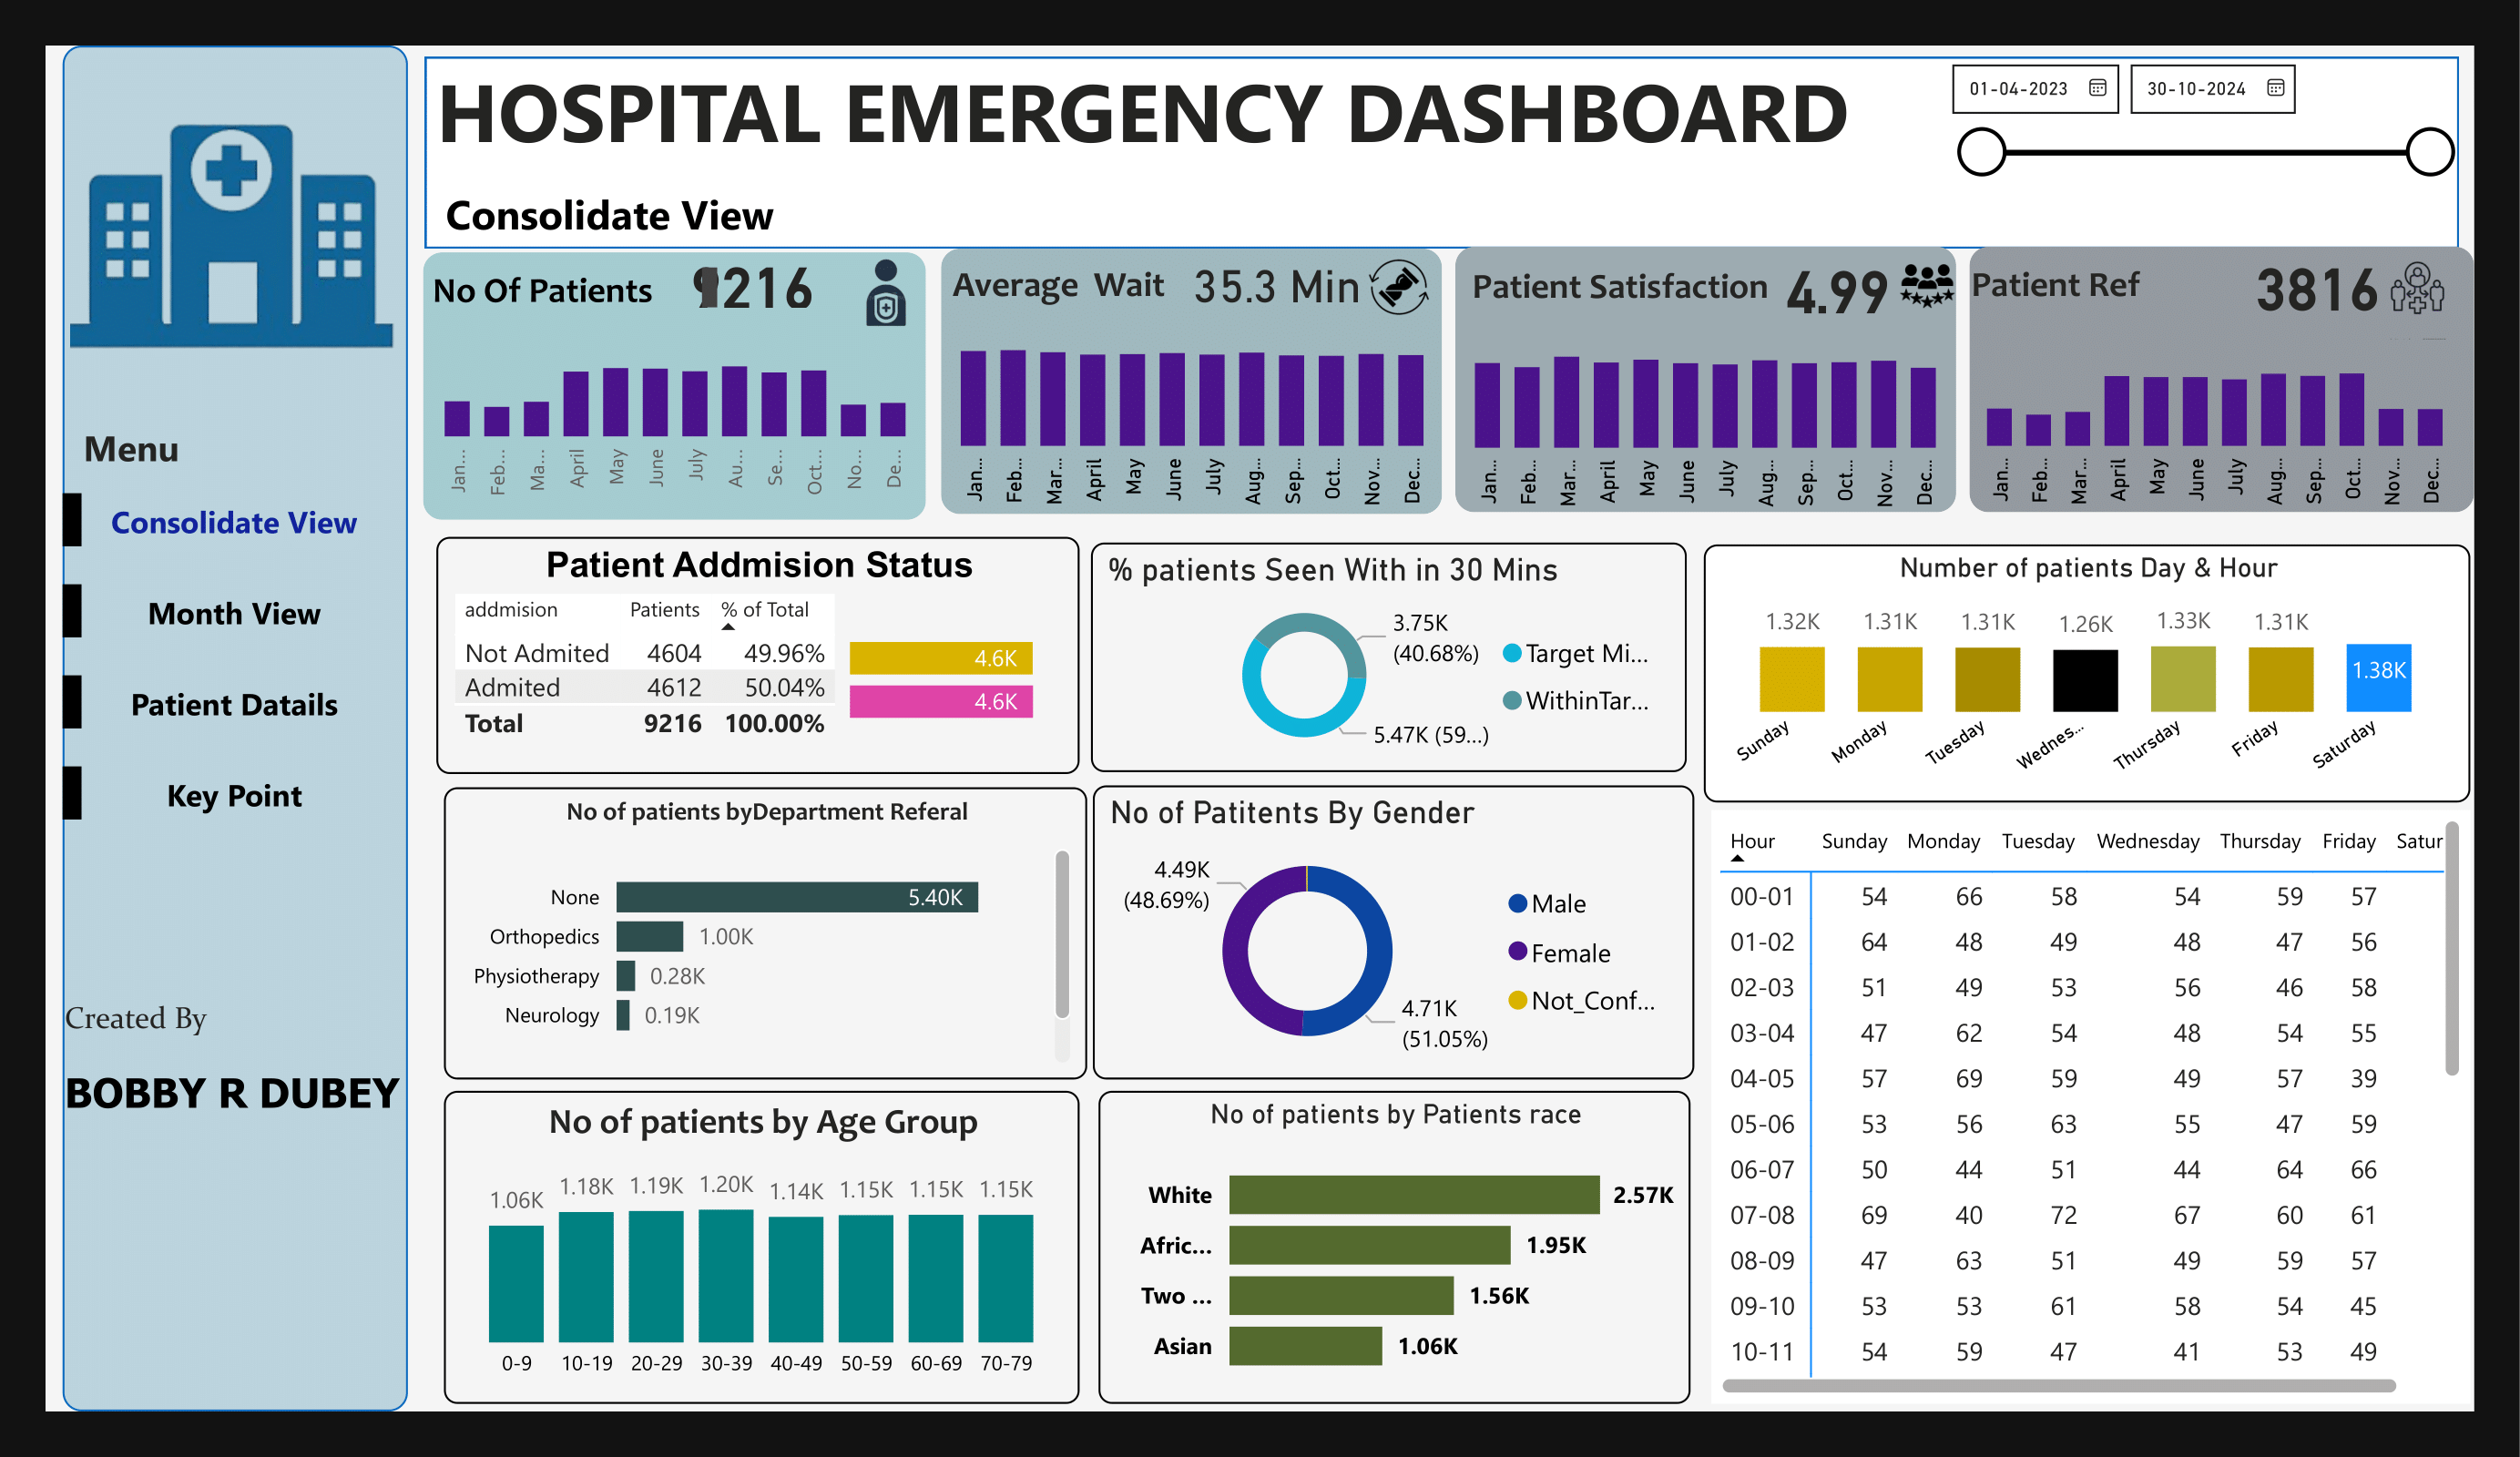

What the dashboard file says about the page in this screenshot:
{"tool":"powerbi","page":{"name":"Consolidate View","canvas":[1280,720],"ordinal":0},"visuals":[{"type":"card","fields":{"Values":["Measure.Patient Referd"]},"box":[1155.7,107,85.1,39],"z":0,"group":"g3"},{"type":"card","fields":{"Values":["Measure.Patient Satisfaction"]},"box":[883.1,108.2,120.9,39.5],"z":0,"group":"g1"},{"type":"shape","box":[198.8,109.3,265.1,140.7],"z":0},{"type":"card","fields":{"Values":["Measure.Avg Wait Time"]},"box":[589.3,110.1,119.8,32.6],"z":0,"group":"g4"},{"type":"shape","box":[200,5.8,1072.1,101.2],"z":1000},{"type":"card","fields":{"Values":["Measure.Number of patients"]},"box":[327.2,109,90.7,33.7],"z":1000,"group":"g6"},{"type":"textbox","box":[1010.5,109.1,138.4,35.6],"z":1000,"group":"g3"},{"type":"textbox","box":[473.3,109.3,145.3,36],"z":1000,"group":"g4"},{"type":"textbox","box":[746.5,110.4,174.4,35.8],"z":1000,"group":"g1"},{"type":"textbox","box":[201,0,791,69],"z":2000},{"type":"card","fields":{"Values":["Measure.Measure"]},"box":[517.1,100.6,259.3,115.1],"z":3000},{"type":"textbox","box":[199.6,111.6,159.4,32.9],"z":3000,"group":"g6"},{"type":"shape","box":[471.6,106.8,264.5,140.1],"z":4000},{"type":"shape","box":[742.9,105.6,264.5,140.1],"z":5000},{"type":"columnChart","fields":{"Category":["Date_Table.Month_Name"],"Y":["Measure.Number of patients"]},"box":[197.2,137.9,269.8,112],"z":5000,"group":"g6"},{"type":"shape","box":[1014,105.6,265.7,140.1],"z":6000},{"type":"group","id":"g1","title":"Group 2","box":[746.5,108.2,257.5,39.5],"z":7000},{"type":"group","id":"g2","title":"Group 1","box":[473.3,109.3,235.7,36],"z":8000},{"type":"tableEx","title":"Patient Addmision Status","fields":{"Values":["ER_Data.addmision status","Measure.Number of patients","Divide(Measure.Number of patients, ScopedEval(Measure.Number of patients, []))"]},"box":[205.8,259.3,339.5,124.4],"z":9000},{"type":"clusteredColumnChart","title":"No of patients by Age Group","fields":{"Category":["ER_Data.Age_Group"],"Y":["Measure.Number of patients"]},"box":[210.5,551.2,334.9,165.1],"z":10000},{"type":"clusteredBarChart","title":"No of patients byDepartment Referal","fields":{"Y":["Measure.Number of patients"],"Category":["ER_Data.Department_Referral"]},"box":[210.5,390.7,338.4,154.7],"z":11000},{"type":"group","id":"g3","title":"Group 2","box":[1010.5,107,230.3,39],"z":11004,"group":"g5"},{"type":"group","id":"g4","title":"Group 2","box":[473.3,109.3,235.7,36],"z":11004,"group":"g2"},{"type":"image","box":[22.1,0,168.6,194.2],"z":12000},{"type":"donutChart","title":"% patients Seen  With in 30 Mins","fields":{"Category":["ER_Data.Patient waiting"],"Y":["Measure.Number of patients"]},"box":[551.2,261.6,314,120.9],"z":13000},{"type":"donutChart","title":"No of Patitents By Gender","fields":{"Y":["Measure.Number of patients"],"Category":["ER_Data.Patient_Gender"]},"box":[552.3,389.5,316.3,155.8],"z":14000},{"type":"barChart","title":"No of patients by  Patients race","fields":{"Y":["Measure.Number of patients"],"Category":["ER_Data.Patient_Race"]},"box":[554.7,551.2,312.8,165.1],"z":15000},{"type":"clusteredColumnChart","title":"Number of patients Day & Hour","fields":{"Y":["Measure.Number of patients"],"Category":["Date_Table.Weekd"]},"box":[874.4,262.8,403.5,136],"z":16000},{"type":"pivotTable","fields":{"Rows":["ER_Data.HourInterval"],"Values":["Measure.Number of patients"],"Columns":["Date_Table.Weekd"]},"box":[877.9,403.5,400,312.8],"z":17000},{"type":"barChart","fields":{"Category":["ER_Data.addmision status"],"Y":["Measure.Number of patients"]},"box":[418.6,289.5,129.1,82.6],"z":18000},{"type":"shape","box":[9.3,0,181.4,719.8],"z":19000},{"type":"image","box":[8.1,3.5,182.6,194.2],"z":20000},{"type":"group","id":"g5","title":"Group 1","box":[1010.5,107,230.2,39],"z":21000},{"type":"columnChart","fields":{"Category":["Date_Table.Month_Name"],"Y":["Avg(ER_Data.Patient_Waittime)"]},"box":[468.6,141.9,270.9,112.8],"z":22000},{"type":"columnChart","fields":{"Category":["Date_Table.Month_Name"],"Y":["Avg(ER_Data.Patient_Satisfaction_Score)"]},"box":[739.5,144.2,270.9,111.6],"z":23000},{"type":"columnChart","fields":{"Category":["Date_Table.Month_Name"],"Y":["Measure.Patient Referd"]},"box":[1010.5,141.9,266.3,112.8],"z":24000},{"type":"slicer","fields":{"Values":["Date_Table.Date"]},"box":[991.9,0,286,97.7],"z":25000},{"type":"textbox","box":[15.1,194.2,84.9,41.9],"z":26000},{"type":"pageNavigator","box":[9.3,236,181.4,172.1],"z":27000},{"type":"group","id":"g6","title":"Group 3","box":[197.2,109,269.8,140.9],"z":28000},{"type":"textbox","box":[206,69,232,43],"z":29000},{"type":"textbox","box":[4.7,497.7,190.7,140.7],"z":30000},{"type":"image","box":[407,97.7,70.9,68.6],"z":31000},{"type":"image","box":[682.6,96.5,60.5,60.5],"z":32000},{"type":"image","box":[1219.8,97.7,60.5,64],"z":33000},{"type":"image","box":[951.2,98.8,81.4,55.8],"z":34000}]}

Visuals, with their boxes on the page's 1280x720 design canvas (x1, y1, x2, y2). These are canvas units, not pixel positions in the 2520x1457 screenshot, which may show the page scaled, cropped or inside an application window:
card - Measure.Patient Referd: bbox(1156, 107, 1241, 146)
card - Measure.Patient Satisfaction: bbox(883, 108, 1004, 148)
shape: bbox(199, 109, 464, 250)
card - Measure.Avg Wait Time: bbox(589, 110, 709, 143)
shape: bbox(200, 6, 1272, 107)
card - Measure.Number of patients: bbox(327, 109, 418, 143)
textbox: bbox(1010, 109, 1149, 145)
textbox: bbox(473, 109, 619, 145)
textbox: bbox(746, 110, 921, 146)
textbox: bbox(201, 0, 992, 69)
card - Measure.Measure: bbox(517, 101, 776, 216)
textbox: bbox(200, 112, 359, 144)
shape: bbox(472, 107, 736, 247)
shape: bbox(743, 106, 1007, 246)
columnChart - Date_Table.Month_Name x Measure.Number of patients: bbox(197, 138, 467, 250)
shape: bbox(1014, 106, 1280, 246)
"Group 2" group: bbox(746, 108, 1004, 148)
"Group 1" group: bbox(473, 109, 709, 145)
"Patient Addmision Status" tableEx: bbox(206, 259, 545, 384)
"No of patients by Age Group" clusteredColumnChart: bbox(210, 551, 545, 716)
"No of patients byDepartment Referal" clusteredBarChart: bbox(210, 391, 549, 545)
"Group 2" group: bbox(1010, 107, 1241, 146)
"Group 2" group: bbox(473, 109, 709, 145)
image: bbox(22, 0, 191, 194)
"% patients Seen  With in 30 Mins" donutChart: bbox(551, 262, 865, 382)
"No of Patitents By Gender" donutChart: bbox(552, 390, 869, 545)
"No of patients by  Patients race" barChart: bbox(555, 551, 868, 716)
"Number of patients Day & Hour" clusteredColumnChart: bbox(874, 263, 1278, 399)
pivotTable - ER_Data.HourInterval x Measure.Number of patients: bbox(878, 404, 1278, 716)
barChart - ER_Data.addmision status x Measure.Number of patients: bbox(419, 290, 548, 372)
shape: bbox(9, 0, 191, 720)
image: bbox(8, 4, 191, 198)
"Group 1" group: bbox(1010, 107, 1241, 146)
columnChart - Date_Table.Month_Name x Avg(ER_Data.Patient_Waittime): bbox(469, 142, 740, 255)
columnChart - Date_Table.Month_Name x Avg(ER_Data.Patient_Satisfaction_Score): bbox(740, 144, 1010, 256)
columnChart - Date_Table.Month_Name x Measure.Patient Referd: bbox(1010, 142, 1277, 255)
slicer - Date_Table.Date: bbox(992, 0, 1278, 98)
textbox: bbox(15, 194, 100, 236)
pageNavigator: bbox(9, 236, 191, 408)
"Group 3" group: bbox(197, 109, 467, 250)
textbox: bbox(206, 69, 438, 112)
textbox: bbox(5, 498, 195, 638)
image: bbox(407, 98, 478, 166)
image: bbox(683, 96, 743, 157)
image: bbox(1220, 98, 1280, 162)
image: bbox(951, 99, 1033, 155)
